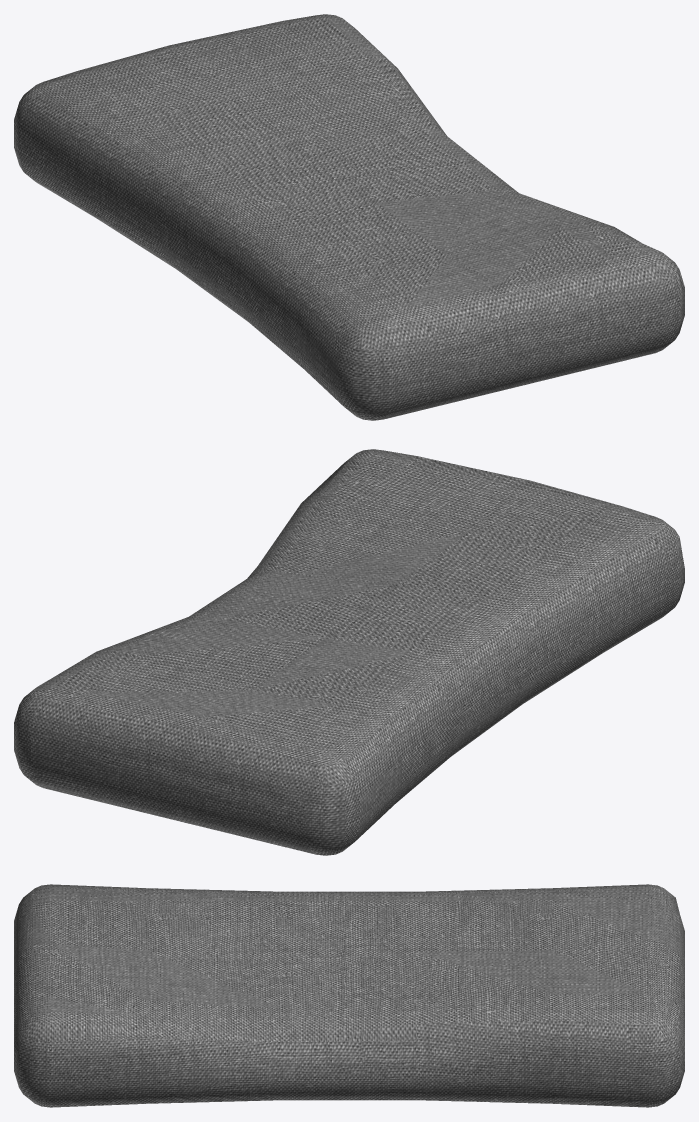
Rendered from FlatPillow.FBX.
The picture shows the model from 3 angles, top to bottom: view 1: azimuth 30°, elevation 25°; view 2: azimuth 150°, elevation 25°; view 3: azimuth 270°, elevation 25°; orthographic projection. The views are drawn at different scales.
Visible parts, largest first — view 1: FlatPillow; view 2: FlatPillow; view 3: FlatPillow.
Part boxes in pixels (x1=…): FlatPillow: x1=14, y1=14, x2=684, y2=420; FlatPillow: x1=14, y1=449, x2=684, y2=855; FlatPillow: x1=14, y1=884, x2=684, y2=1107.
Bounding box in the file's own units: 3245 × 952 × 5928.
